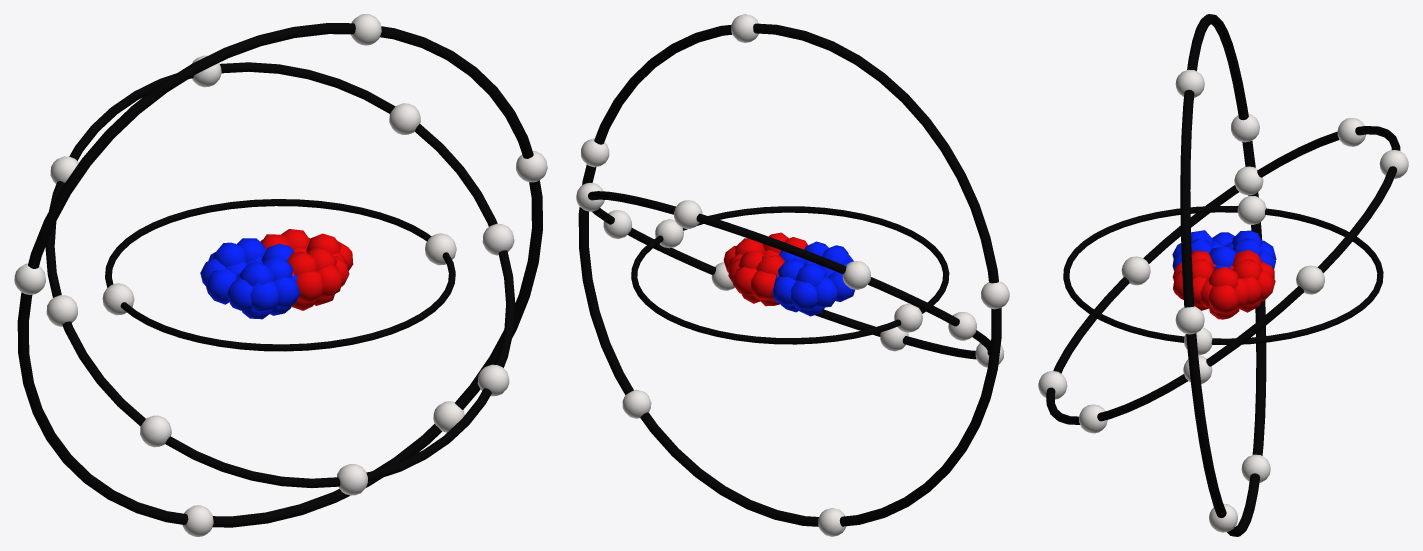
File: 15 Fosforo.fbx
3 renders of one model, left to right at view 1: azimuth 30°, elevation 25°; view 2: azimuth 150°, elevation 25°; view 3: azimuth 270°, elevation 25°, orthographic. The views are drawn at different scales.
Parts seen in each view (by area): view 1: Orbita.003, Orbita.002, Nucleo.001, Orbita.001, Electron.009, Electron.004, Electron.008, Electron.002, Electron.003, Electron.010, Electron.005, Electron.012 (+5 smaller); view 2: Orbita.003, Nucleo.001, Orbita.002, Orbita.001, Electron.014, Electron.006, Electron.005, Electron, Electron.007, Electron.011, Electron.001, Electron.012 (+4 smaller); view 3: Orbita.003, Nucleo.001, Orbita.002, Orbita.001, Electron, Electron.011, Electron.004, Electron.003, Electron.009, Electron.005, Electron.010, Electron.012 (+5 smaller).
Part boxes in pixels (x1,y1,x2,y2): Orbita.003: [17, 23, 542, 527]; Orbita.002: [45, 62, 515, 487]; Nucleo.001: [200, 229, 353, 319]; Orbita.001: [105, 199, 455, 351]; Electron.009: [389, 103, 420, 134]; Electron.004: [140, 415, 171, 447]; Electron.008: [337, 464, 367, 495]; Electron.002: [482, 223, 514, 255]; Electron.003: [46, 295, 77, 326]; Electron.010: [477, 364, 509, 396]; Electron.005: [14, 263, 45, 294]; Electron.012: [350, 14, 381, 45]; Orbita.003: [578, 23, 1001, 526]; Nucleo.001: [723, 232, 854, 316]; Orbita.002: [588, 191, 990, 359]; Orbita.001: [631, 206, 949, 344]; Electron.014: [622, 389, 651, 418]; Electron.006: [842, 261, 870, 289]; Electron.005: [981, 281, 1009, 309]; Electron: [894, 303, 922, 332]; Electron.007: [674, 200, 702, 228]; Electron.011: [581, 138, 609, 167]; Electron.001: [655, 219, 683, 248]; Electron.012: [731, 14, 758, 42]; Orbita.003: [1180, 14, 1266, 536]; Nucleo.001: [1172, 230, 1276, 319]; Orbita.002: [1046, 126, 1400, 424]; Orbita.001: [1063, 206, 1383, 344]; Electron: [1237, 196, 1266, 224]; Electron.011: [1175, 306, 1204, 334]; Electron.004: [1121, 256, 1150, 285]; Electron.003: [1234, 166, 1263, 195]; Electron.009: [1296, 265, 1324, 294]; Electron.005: [1231, 113, 1259, 142]; Electron.010: [1079, 404, 1107, 433]; Electron.012: [1175, 69, 1204, 97].
Bounding box in the file's own units: 8.59 × 12.21 × 12.1.
